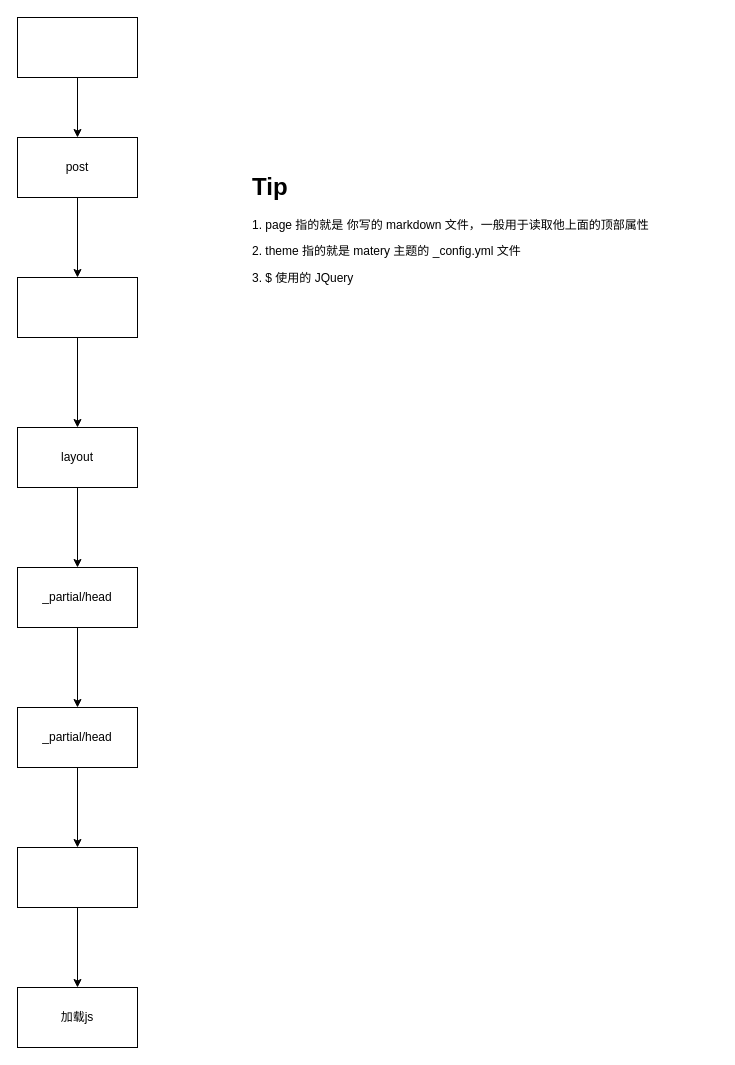
Image size: 735x1065. Some labels were removed from this diagram. The box of each missing label's shape, as (x1, y1, x2, y2) in pixels:
index: (16, 16, 138, 78)
post_detail: (16, 276, 138, 338)
定义head，并加载css: (16, 846, 138, 908)
